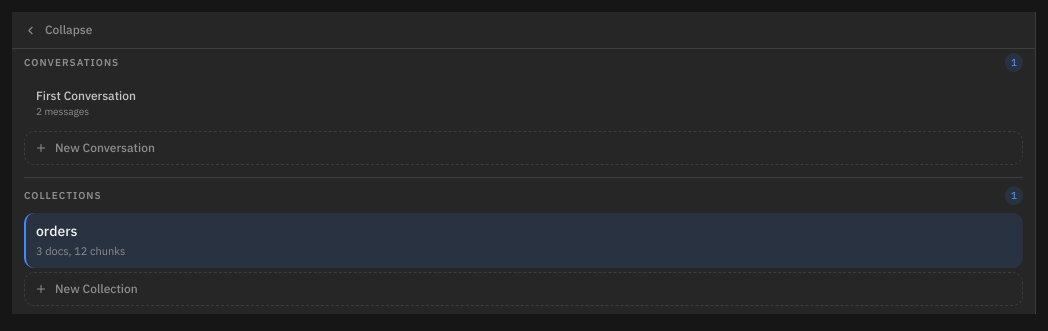
Test: Sidebar › cancels rename edits and supports keyboard navigation
Press Enter in the button "First Conversation 2 messages", box 36,88 -> 136,118
Press Enter in the button "orders 3 docs, 12 chunks", box 36,222 -> 125,258
Double-click the text "First Conversation".
double_click(86, 96)  # box 36,88 -> 136,103
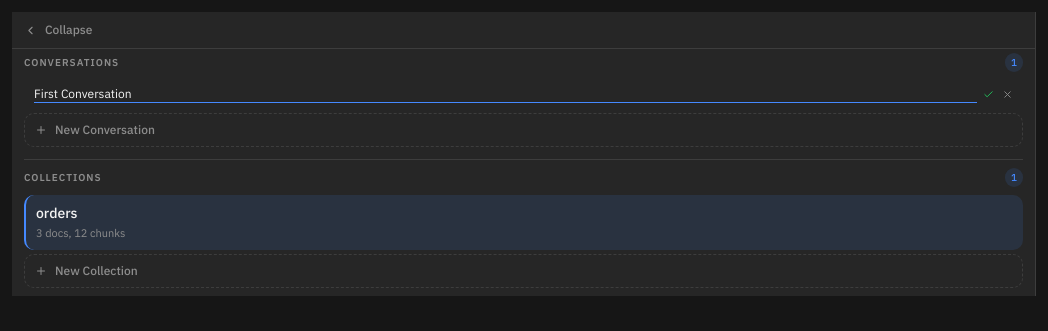
Replace the text in the field showing "First Conversation" with "Discarded Rename" at (506, 94), box 34,86 -> 977,103
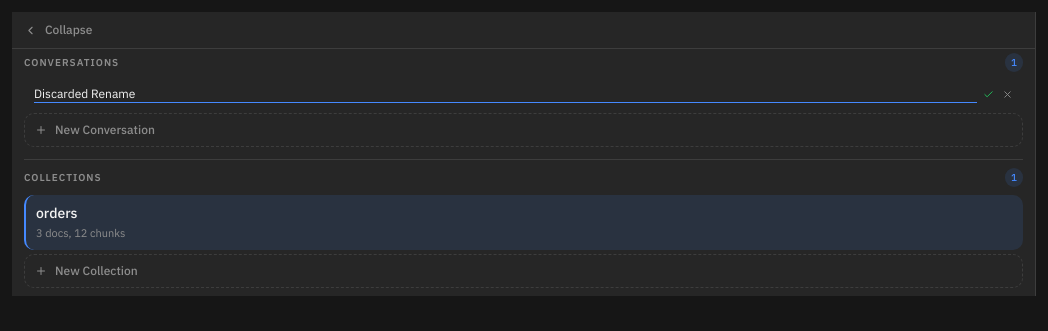
Press Escape in the field showing "First Conversation", box 34,86 -> 977,103
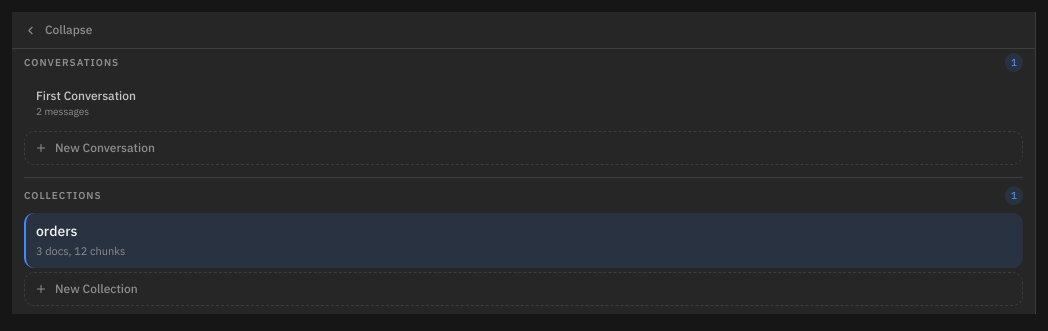
Expected: the text "2 messages" is shown, 36,105 -> 89,118
